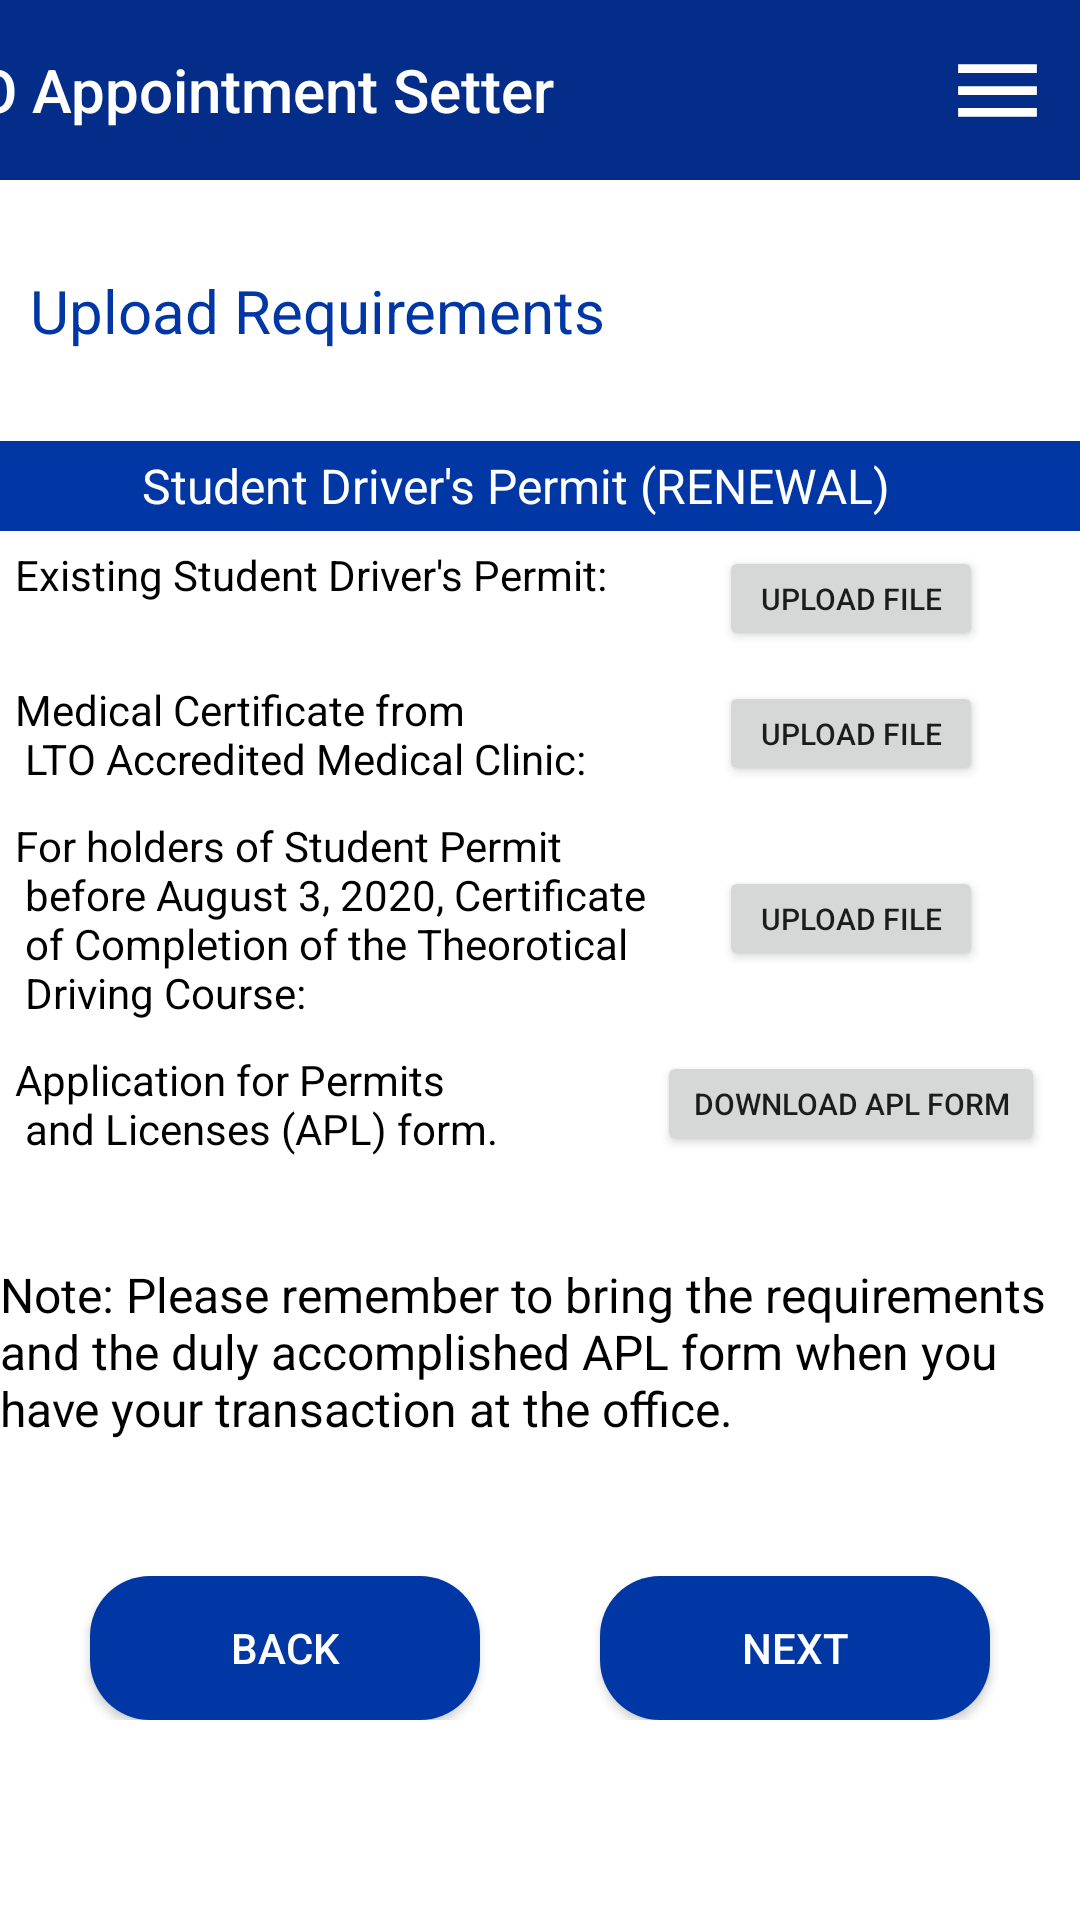

Icons on this 1080px×1920px Android screen, each with its box as rect(x1, y1, x2, y2):
menu: rect(958, 64, 1037, 117)
